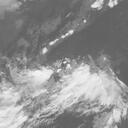cyclone: (34, 58, 109, 106)
